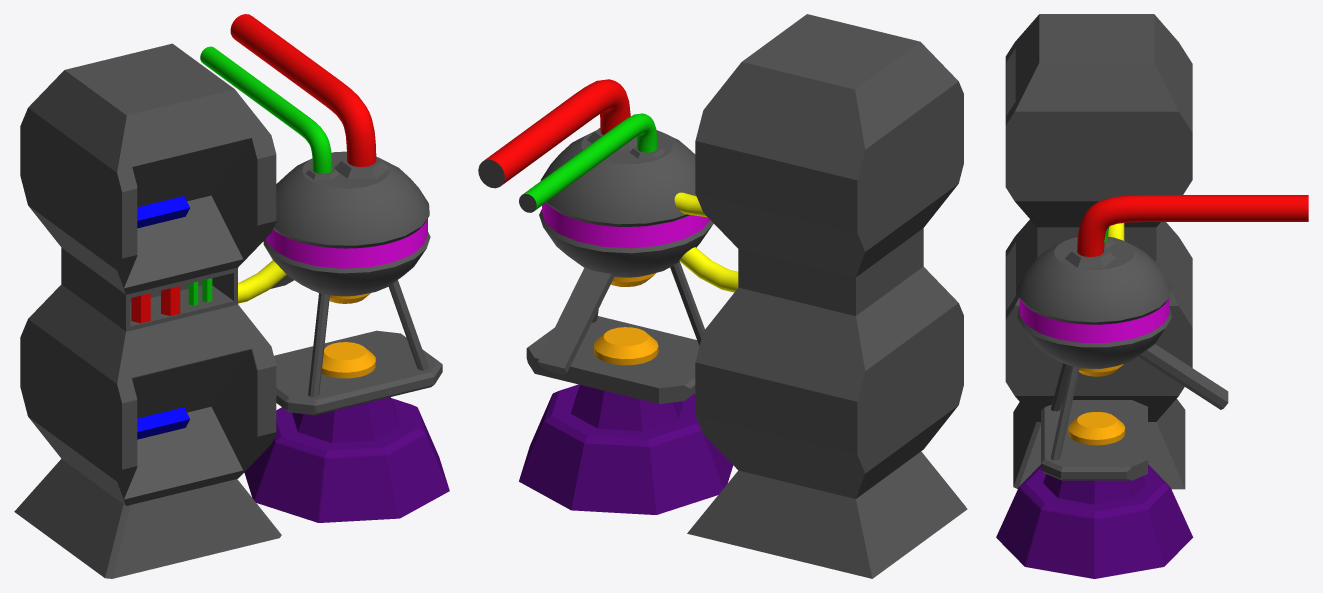
Rendered from power terminal.obj.
3 views of the same model, side by side, from view 1: azimuth 30°, elevation 25°; view 2: azimuth 150°, elevation 25°; view 3: azimuth 270°, elevation 25° (orthographic). The views are drawn at different scales.
Parts seen in each view (by area): view 1: object1; view 2: object1; view 3: object1.
Part boxes in pixels (bbox=[...]): object1: bbox=[14, 14, 449, 578]; object1: bbox=[478, 14, 967, 578]; object1: bbox=[996, 14, 1308, 578].
Size of the model in its own units: 29.86 by 33.94 by 23.38.
